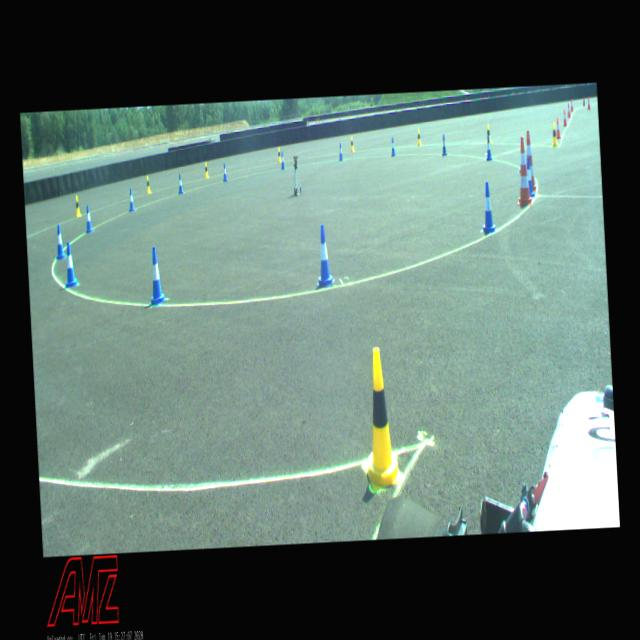blue_cone: (314, 224, 334, 287), (147, 247, 166, 305), (481, 182, 496, 232), (64, 242, 78, 288), (54, 224, 66, 260), (526, 158, 536, 197), (85, 205, 93, 234), (484, 135, 492, 161), (128, 188, 136, 212), (178, 174, 185, 194), (441, 134, 447, 156), (390, 137, 396, 157), (222, 164, 228, 182), (280, 152, 286, 170), (338, 142, 343, 160)
large_orange_cone: (514, 137, 534, 206), (524, 132, 536, 190)
orange_cone: (556, 118, 562, 138), (562, 110, 568, 126), (566, 104, 572, 118), (586, 96, 590, 110), (570, 99, 574, 111)
yellow_cone: (359, 346, 401, 491), (551, 123, 558, 147), (75, 196, 81, 217), (416, 130, 422, 146), (486, 125, 491, 144), (146, 176, 151, 194), (350, 136, 355, 152), (204, 162, 209, 178), (278, 147, 282, 163)
